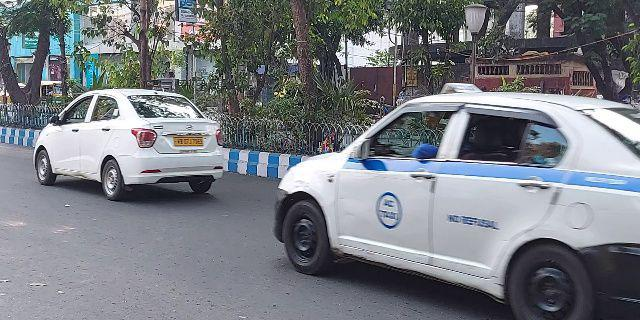Car: (269, 81, 638, 320), (32, 86, 227, 201)
